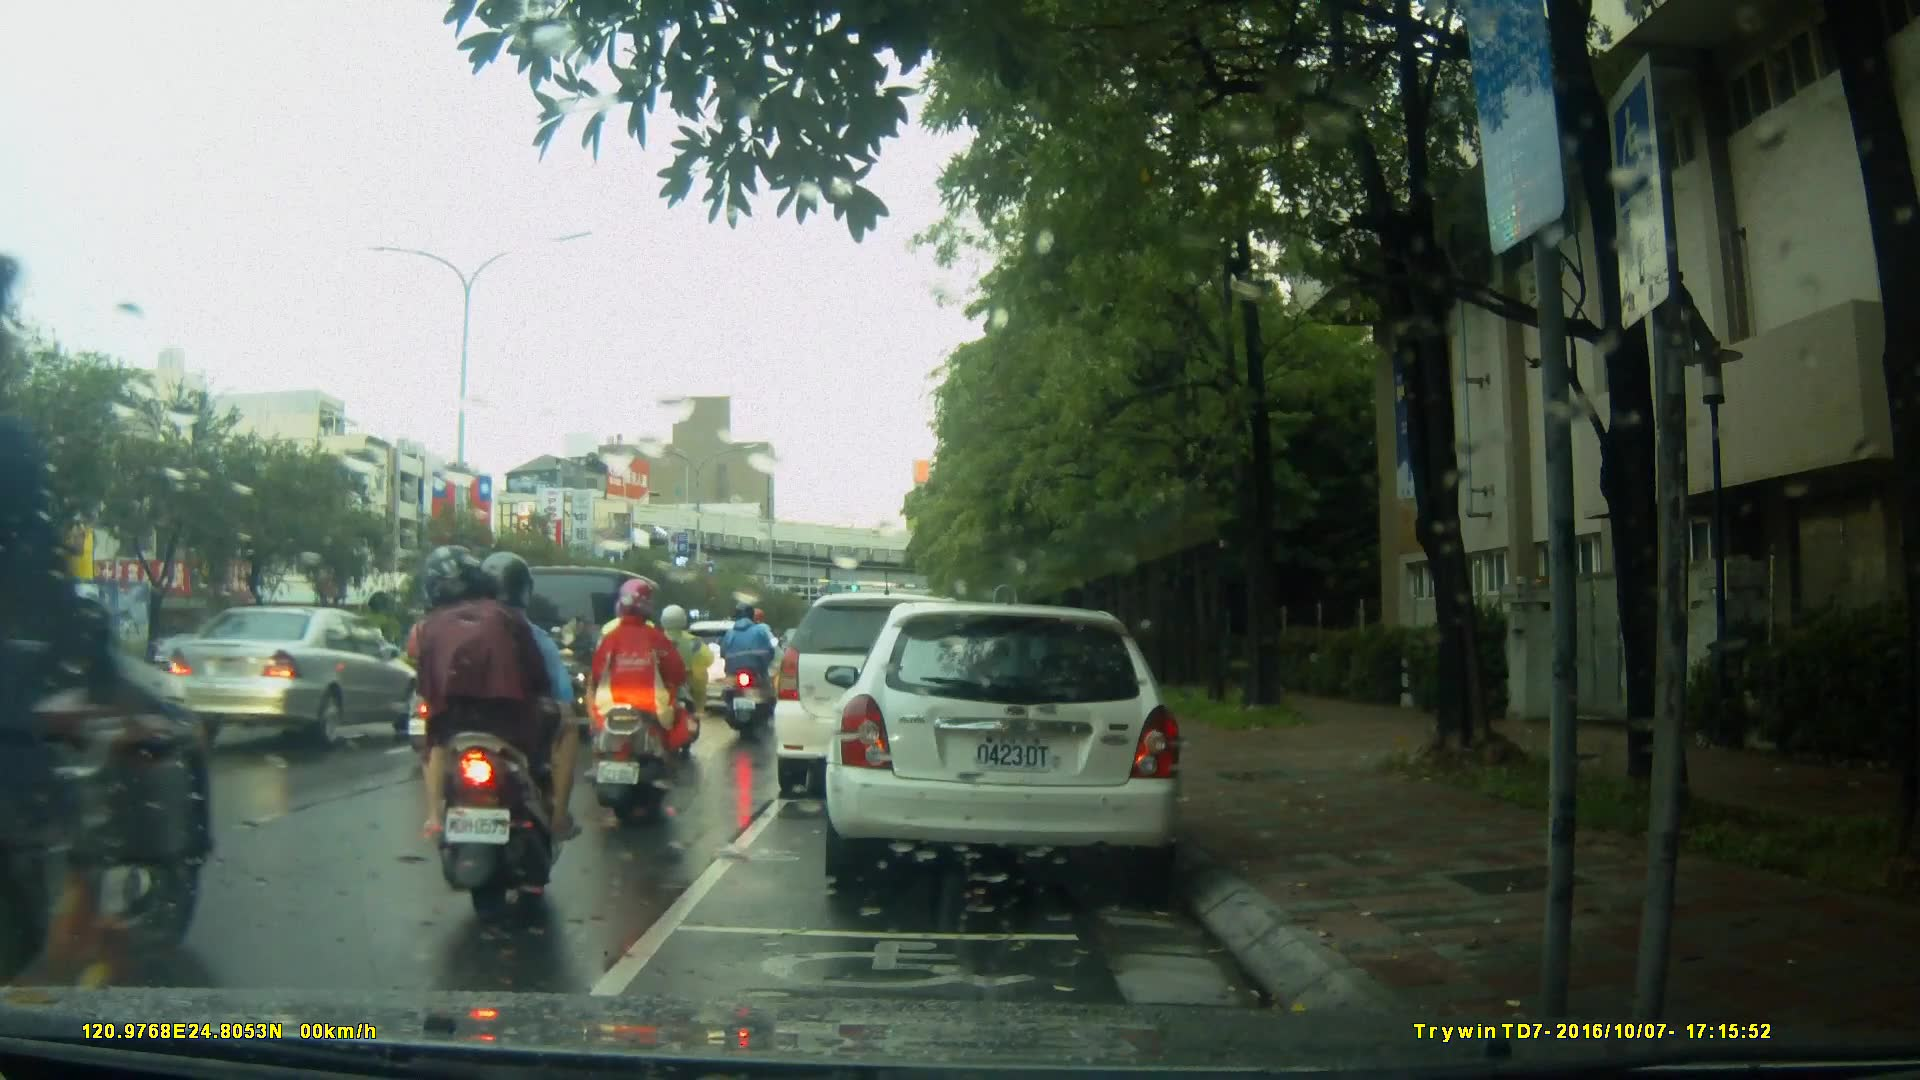rider: (1, 310, 175, 1080), (417, 545, 579, 919), (597, 581, 695, 827), (597, 588, 687, 787), (402, 587, 482, 753), (636, 596, 714, 755), (722, 594, 775, 737)
vehicle: (822, 604, 1188, 883), (774, 595, 995, 802), (146, 605, 445, 746), (487, 565, 662, 721)
